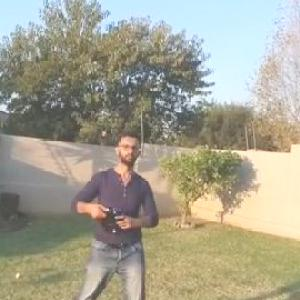follow: (63, 124, 169, 299)
